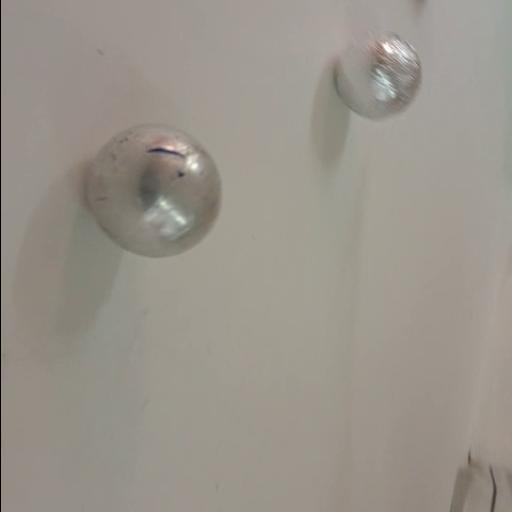alive: (81, 121, 225, 263), (334, 27, 425, 122)
